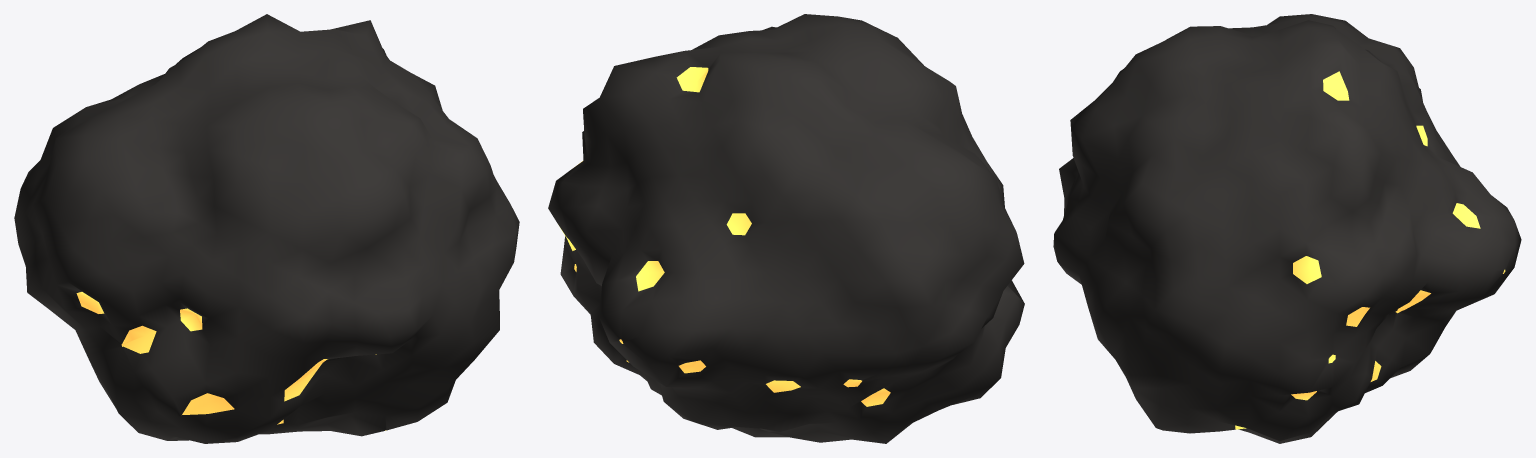
File: bomb_4.glb
3 renders of one model, left to right at view 1: azimuth 30°, elevation 25°; view 2: azimuth 150°, elevation 25°; view 3: azimuth 270°, elevation 25°, orthographic. The views are drawn at different scales.
Parts seen in each view (by area): view 1: bomb_4; view 2: bomb_4; view 3: bomb_4.
Boxes of the visible parts, <box> form: bomb_4: <box>14,14,519,443</box>; bomb_4: <box>548,14,1024,443</box>; bomb_4: <box>1053,14,1521,443</box>.
Size of the model in its own units: 4.19 by 3.62 by 4.09.
